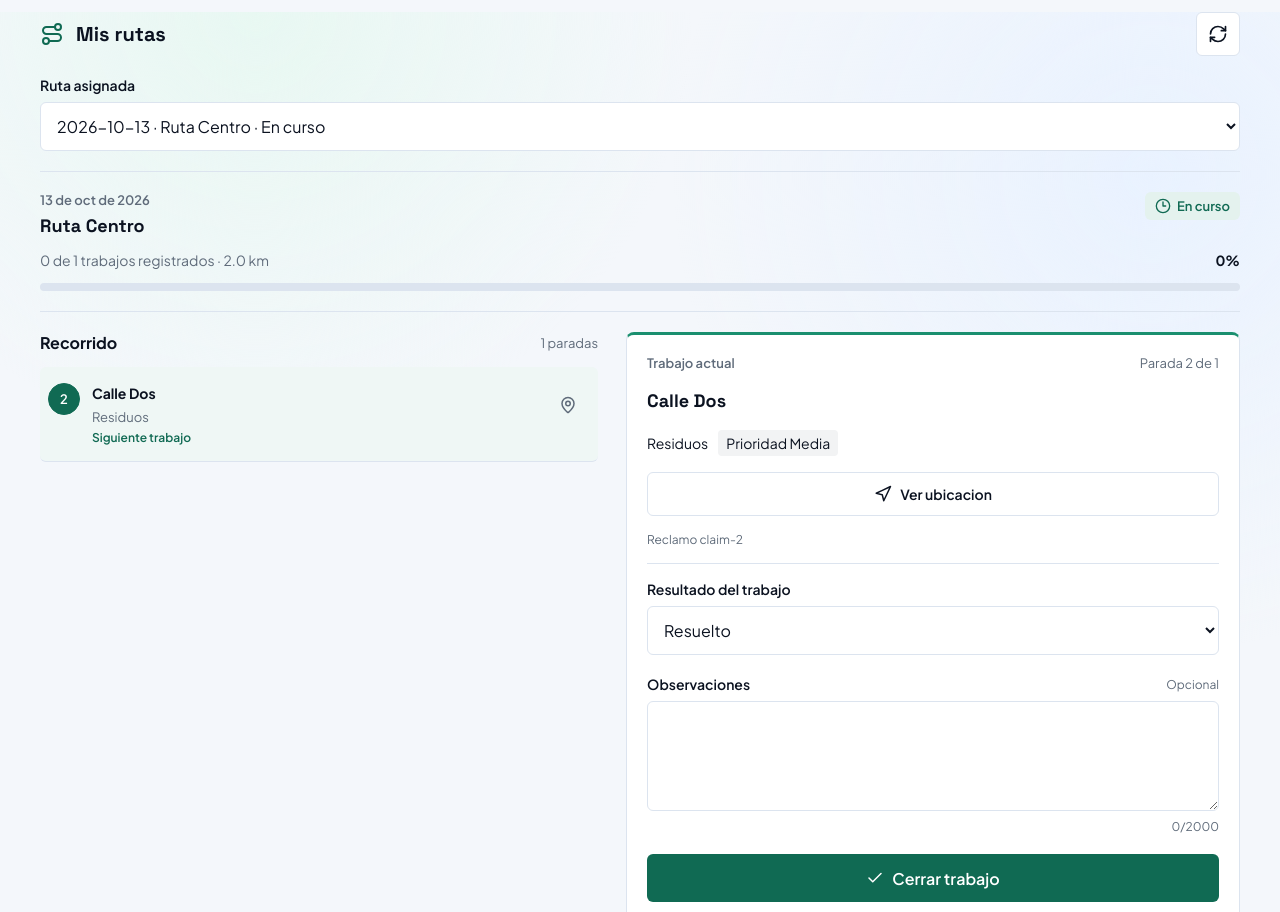
Test: AgentRoutesPanel › recovers the completed route after the last stop returns an error
What coordinates should you click on to do the following:
click the button "Cerrar trabajo"
I would click on:
 (933, 878)
Its box is left=647, top=854, right=1219, bottom=902.
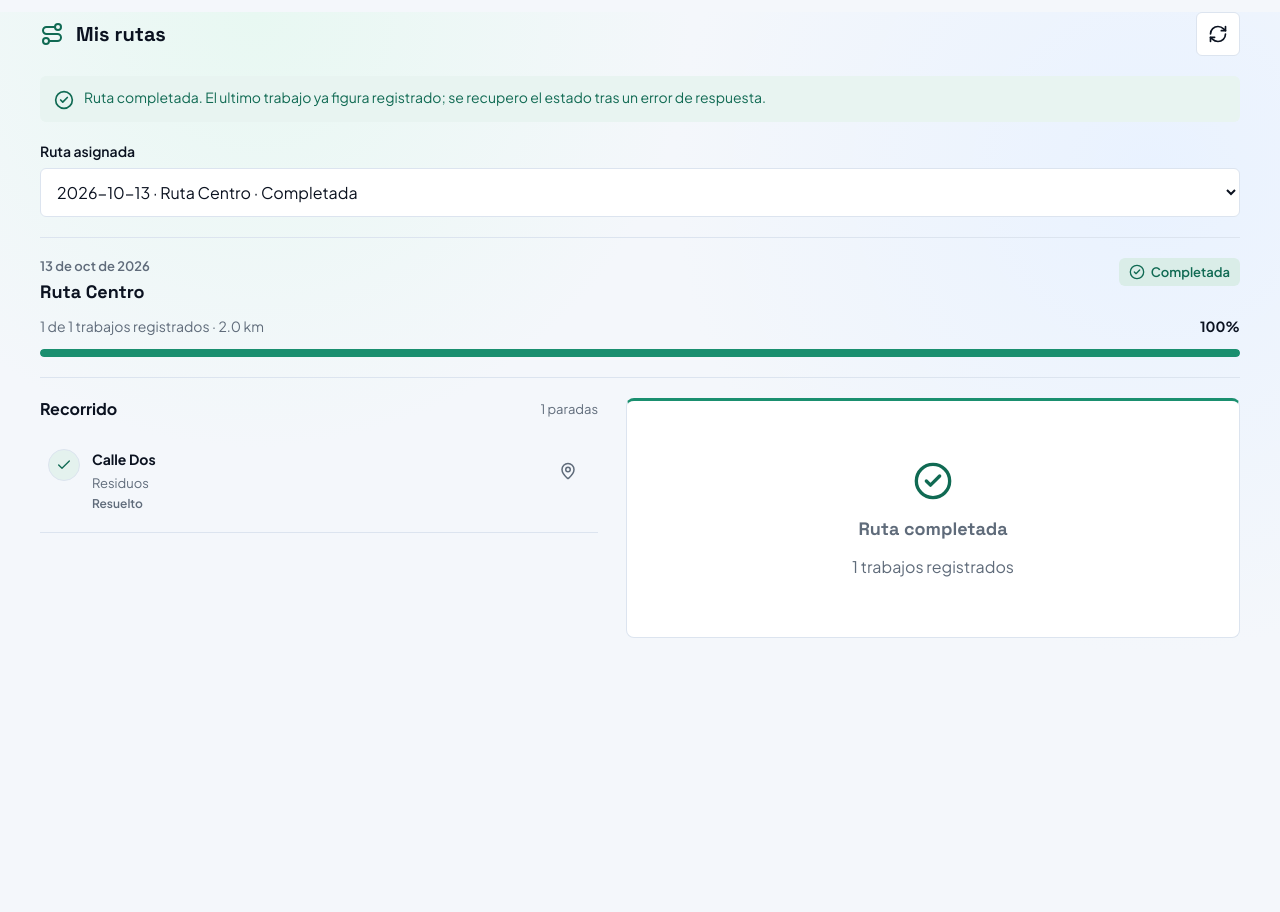
Now the text "Ruta completada. El ultimo trabajo ya figura registrado; se recupero el estado tras un error de respuesta." is shown, box left=84, top=88, right=766, bottom=106
Now the button "Cerrar trabajo" is gone
